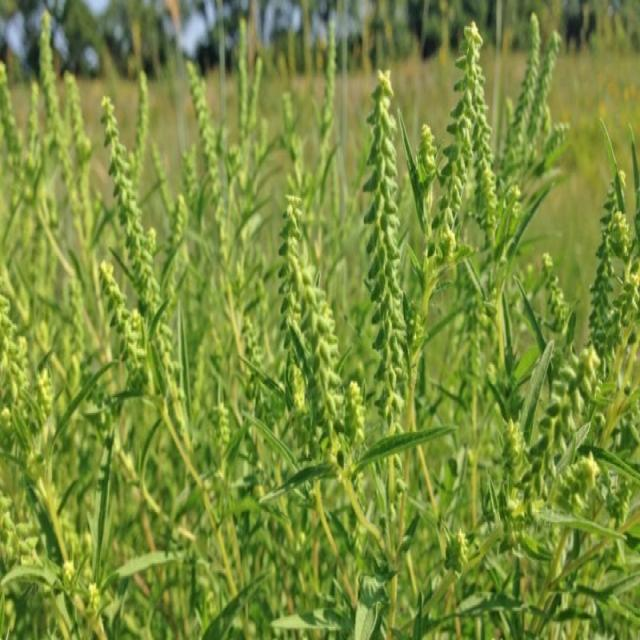ambrosia: (331, 50, 488, 410), (64, 63, 196, 431), (238, 140, 346, 524), (563, 142, 640, 432)
